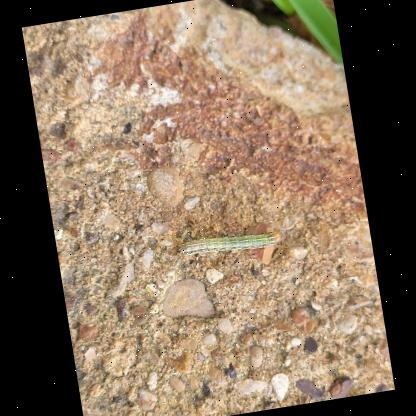Fall Armyworm Larvae: (164, 222, 288, 267)
